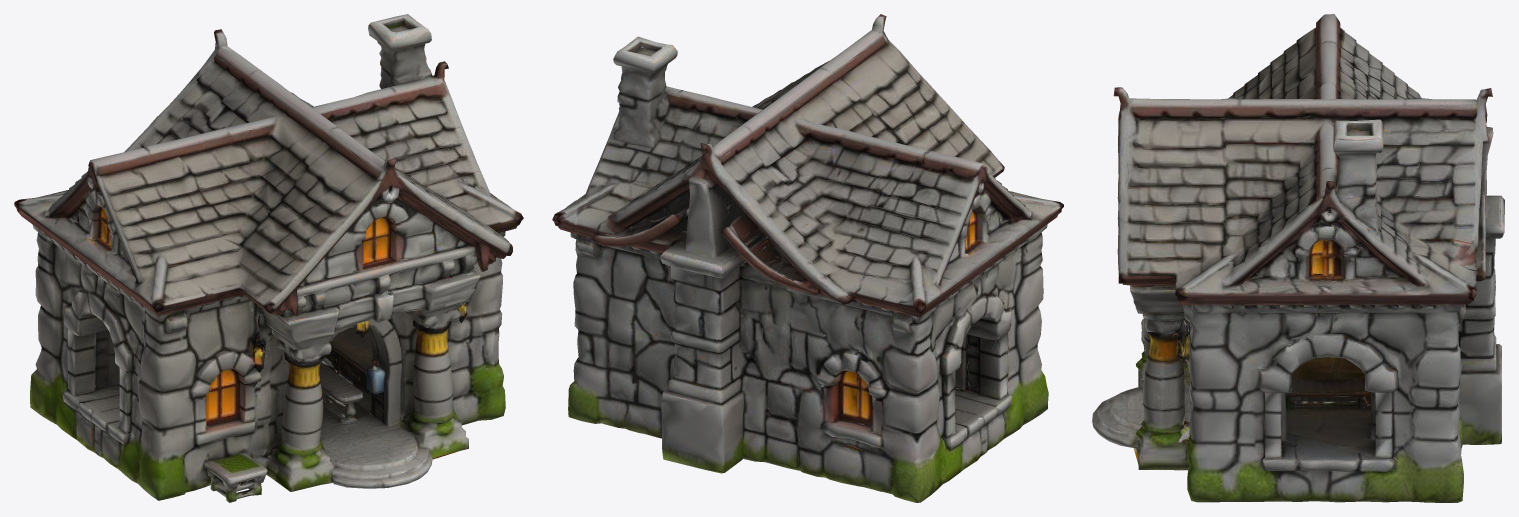
Rendered from Dwarven Building #2_final.glb.
3 views of the same model, side by side, from view 1: azimuth 30°, elevation 25°; view 2: azimuth 150°, elevation 25°; view 3: azimuth 270°, elevation 25° (orthographic). The views are drawn at different scales.
Size of the model in its own units: 1.91 by 1.68 by 1.75.
Materials: 1 (1 with a texture image).
